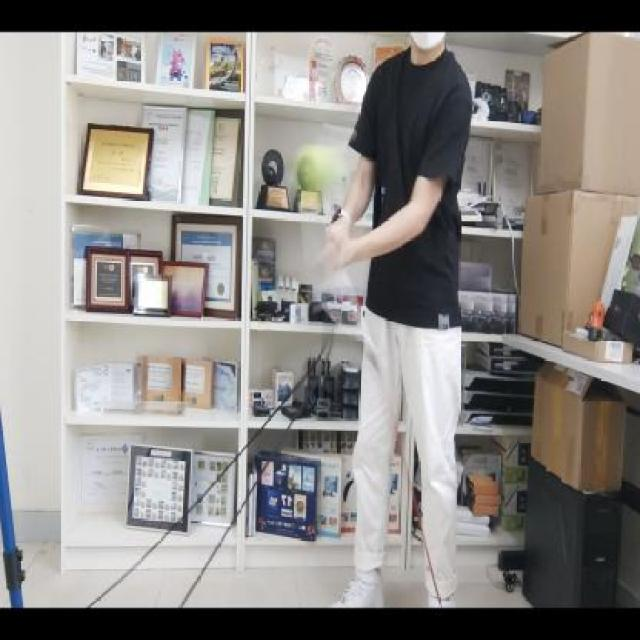baseball: (290, 143, 361, 209)
